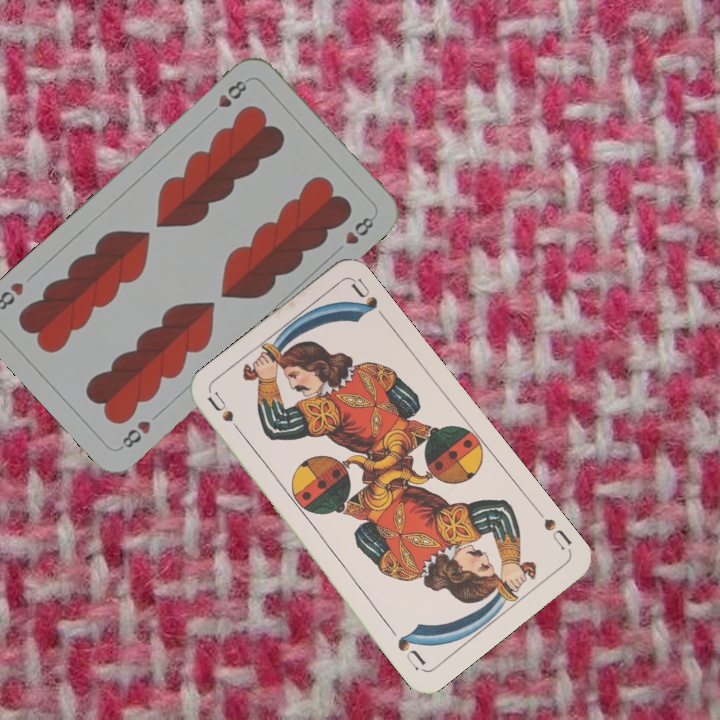H8: (204, 76, 249, 120), (116, 416, 154, 452)
SU: (203, 389, 249, 441), (539, 514, 574, 553)
